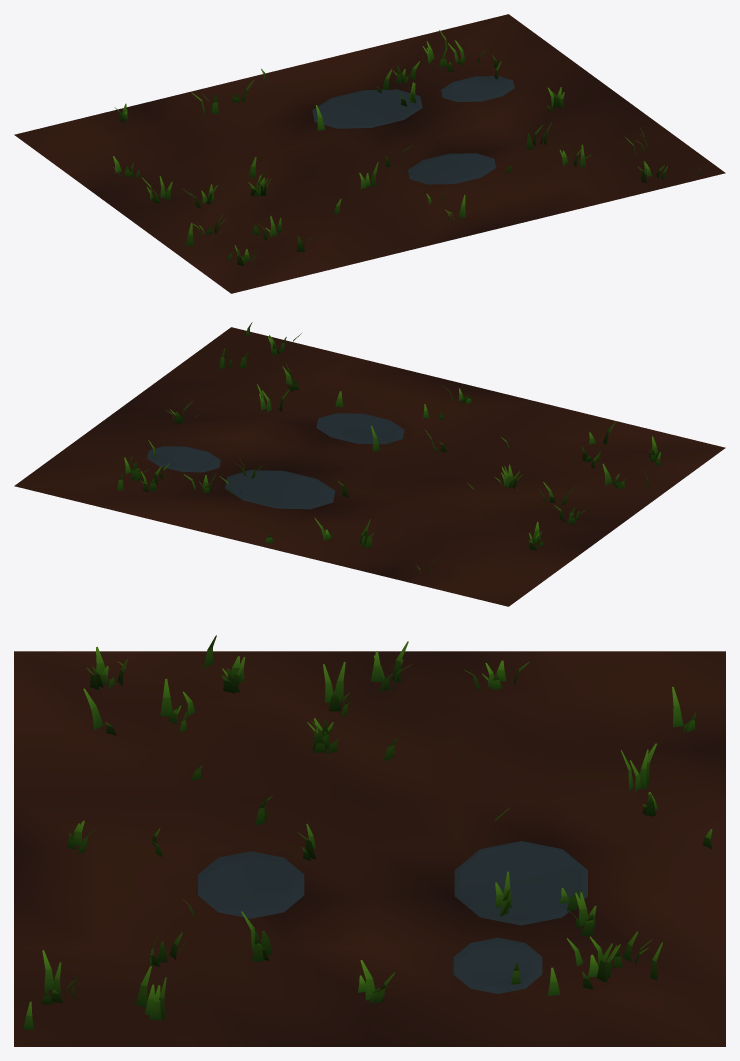
The model's file is fm_turf_wet.glb.
3 views of the same model, one above another, from view 1: azimuth 30°, elevation 25°; view 2: azimuth 150°, elevation 25°; view 3: azimuth 270°, elevation 25° (orthographic). The views are drawn at different scales.
Parts seen in each view (by area): view 1: fm_turf_wet; view 2: fm_turf_wet; view 3: fm_turf_wet.
Part boxes in pixels (x1,y1,x2,y2): fm_turf_wet: [14, 14, 725, 293]; fm_turf_wet: [14, 322, 725, 606]; fm_turf_wet: [14, 635, 725, 1046].
Bounding box in the file's own units: 2.3 × 0.1021 × 1.75.
